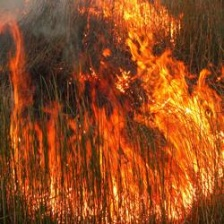fire: (57, 119, 203, 214), (121, 6, 203, 118), (9, 39, 52, 215)
